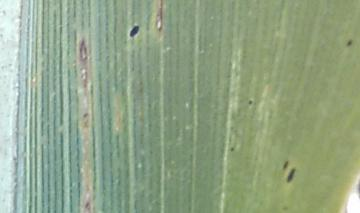tarspot: (127, 23, 142, 39), (285, 166, 297, 185), (279, 159, 290, 171), (345, 38, 354, 48), (246, 96, 254, 106), (280, 204, 290, 212), (81, 111, 91, 118), (228, 146, 237, 152)
